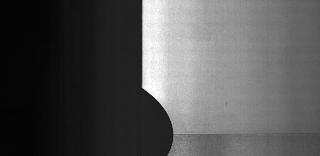welding line: (168, 132, 320, 142)
